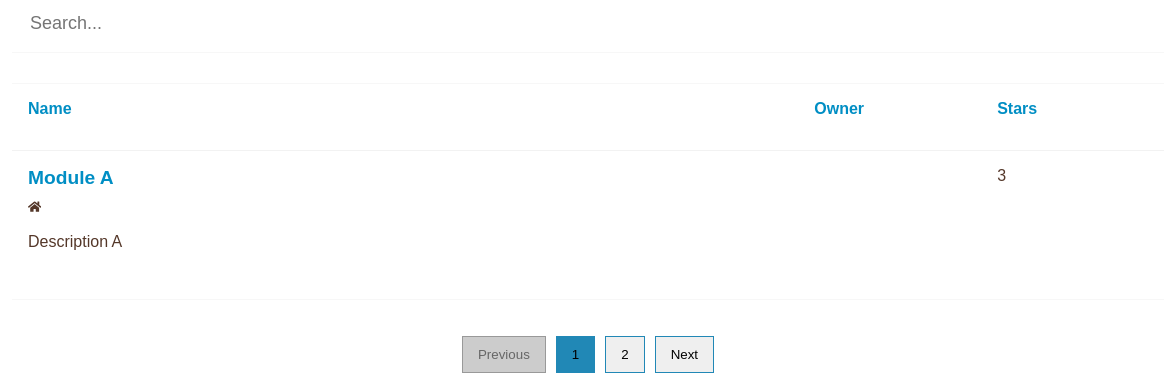
it: ModuleSearch › should handles pagination
The width and height of the screenshot is (1176, 390).
expect the link "Module A" is shown: met, box [28, 167, 114, 188]
expect the button "1" is shown: met, box [556, 336, 595, 373]
page click to go to the second page
Click the button "2": (625, 354) [605, 336, 645, 373]
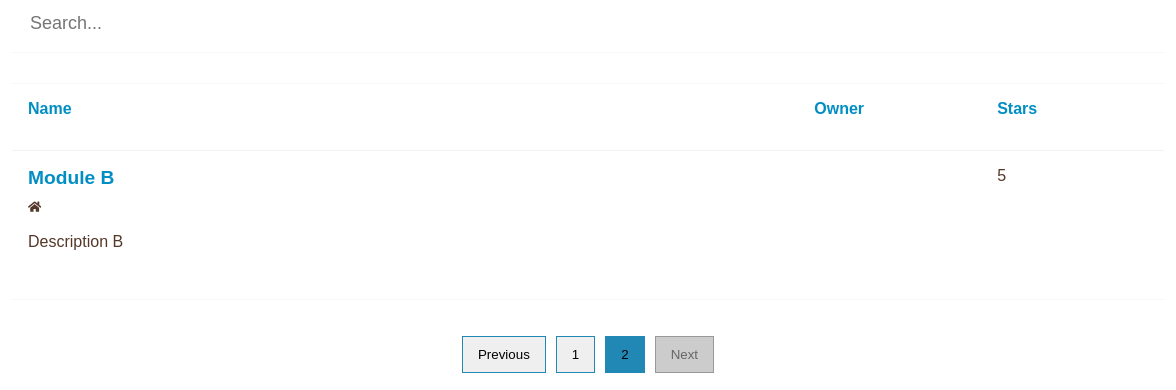
expect the link "Module B" is shown: met, box [28, 167, 114, 188]
